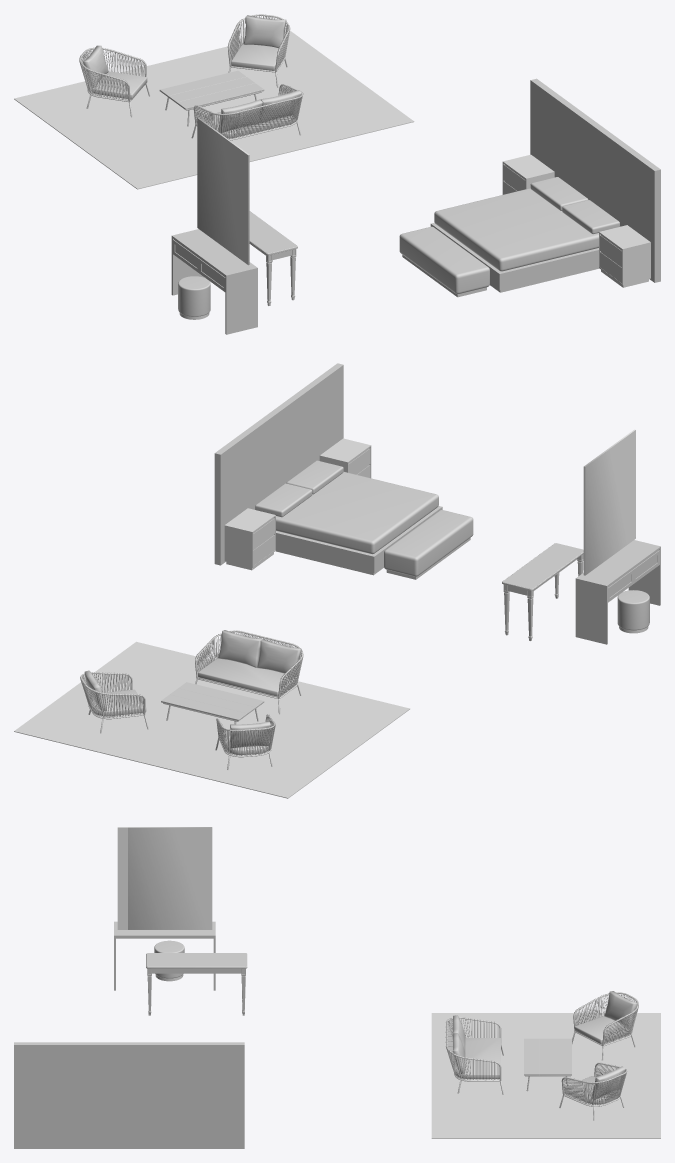
File: Storey__FirstFloor__ProposedFurniture__MeshModel__.glb
3 views of the same model, one above another, from view 1: azimuth 30°, elevation 25°; view 2: azimuth 150°, elevation 25°; view 3: azimuth 270°, elevation 25° (orthographic). The views are drawn at different scales.
Visible parts, largest first — view 1: 28__ProposedBuilding__Furniture::MAT000E__Generic__Grey, 28__ProposedBuilding__Furniture::Default, 85_03__OudoorLiving__LoungeChair__RattanRope__Type-01__ID410 (×2), 28__ProposedBuilding__Furniture::MAT140__Mirror__ClearDefaul, Component_18_ID41007427, Component_18_ID41007428; view 2: 28__ProposedBuilding__Furniture::MAT000E__Generic__Grey, 28__ProposedBuilding__Furniture::Default, 28__ProposedBuilding__Furniture::MAT140__Mirror__ClearDefaul, 85_03__OudoorLiving__LoungeChair__RattanRope__Type-01__ID410 (×2), Component_18_ID41007428, Component_18_ID41007427; view 3: 28__ProposedBuilding__Furniture::MAT000E__Generic__Grey, 28__ProposedBuilding__Furniture::Default, 28__ProposedBuilding__Furniture::MAT140__Mirror__ClearDefaul, 85_03__OudoorLiving__LoungeChair__RattanRope__Type-01__ID410 (×2).
Part boxes in pixels (bbox=[...]): 28__ProposedBuilding__Furniture::MAT000E__Generic__Grey: bbox=[159, 70, 660, 334]; 28__ProposedBuilding__Furniture::Default: bbox=[14, 31, 650, 319]; 85_03__OudoorLiving__LoungeChair__RattanRope__Type-01__ID410 (×2): bbox=[79, 14, 290, 117]; 28__ProposedBuilding__Furniture::MAT140__Mirror__ClearDefaul: bbox=[197, 117, 249, 265]; Component_18_ID41007427: bbox=[217, 99, 262, 133]; Component_18_ID41007428: bbox=[259, 90, 301, 123]; 28__ProposedBuilding__Furniture::MAT000E__Generic__Grey: bbox=[161, 363, 660, 721]; 28__ProposedBuilding__Furniture::Default: bbox=[14, 438, 648, 798]; 28__ProposedBuilding__Furniture::MAT140__Mirror__ClearDefaul: bbox=[583, 429, 635, 575]; 85_03__OudoorLiving__LoungeChair__RattanRope__Type-01__ID410 (×2): bbox=[80, 670, 275, 769]; Component_18_ID41007428: bbox=[218, 630, 262, 667]; Component_18_ID41007427: bbox=[257, 639, 301, 675]; 28__ProposedBuilding__Furniture::MAT000E__Generic__Grey: bbox=[14, 921, 571, 1148]; 28__ProposedBuilding__Furniture::Default: bbox=[155, 974, 660, 1138]; 28__ProposedBuilding__Furniture::MAT140__Mirror__ClearDefaul: bbox=[117, 827, 212, 929]; 85_03__OudoorLiving__LoungeChair__RattanRope__Type-01__ID410 (×2): bbox=[559, 991, 638, 1120].
Bounding box in the file's own units: 6.31 × 2.62 × 9.59.
3 materials, 1 textured.
